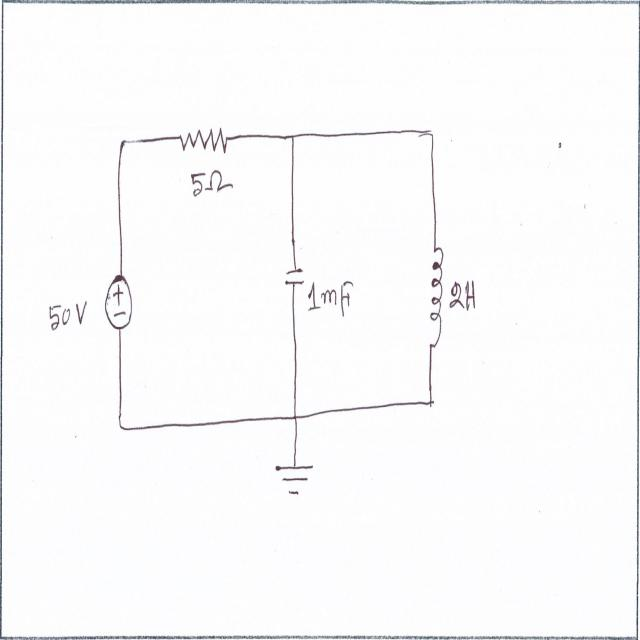capacitor: (281, 259, 313, 290)
ground: (271, 459, 316, 501)
inductor: (428, 242, 447, 355)
resistor: (178, 116, 231, 162)
voltage_source: (105, 271, 139, 335)
